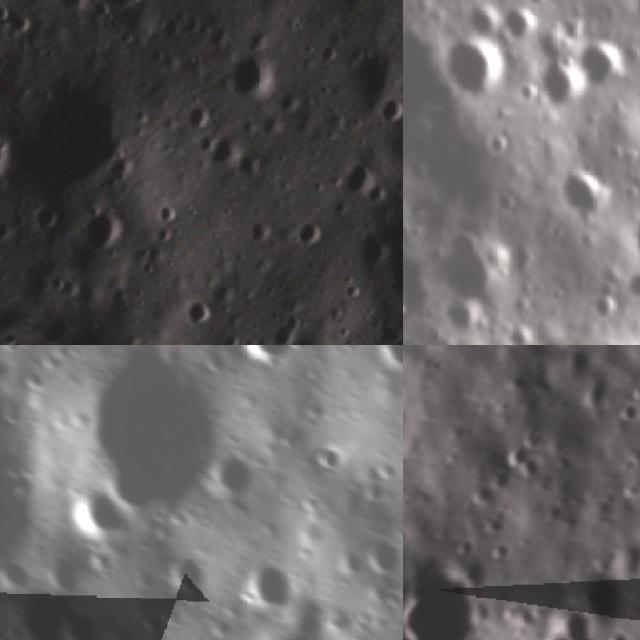crater: (41, 345, 213, 515), (403, 557, 485, 640), (436, 28, 514, 111), (437, 227, 515, 307), (216, 36, 290, 110), (568, 555, 633, 636), (531, 56, 587, 129), (239, 554, 305, 615), (72, 485, 135, 546), (206, 442, 271, 500), (576, 36, 638, 96), (551, 167, 613, 226), (79, 202, 137, 262), (533, 594, 599, 640), (158, 544, 212, 598), (290, 210, 338, 262), (335, 157, 384, 206), (363, 82, 403, 142), (356, 533, 403, 579), (0, 114, 24, 200), (308, 436, 357, 478), (501, 441, 548, 484), (178, 294, 221, 338), (178, 95, 220, 138), (500, 0, 537, 44), (27, 197, 66, 237), (233, 345, 296, 369), (336, 274, 371, 308), (264, 317, 305, 345), (153, 198, 185, 231), (625, 208, 640, 274), (370, 345, 403, 371), (0, 0, 23, 34), (616, 400, 640, 428), (332, 320, 358, 345), (516, 0, 553, 12), (544, 345, 588, 353), (631, 383, 640, 407)
